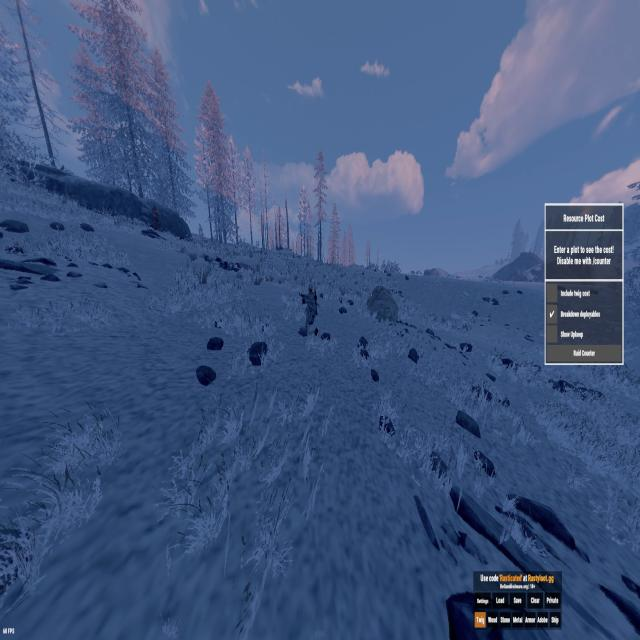Player: (299, 283, 318, 336)
